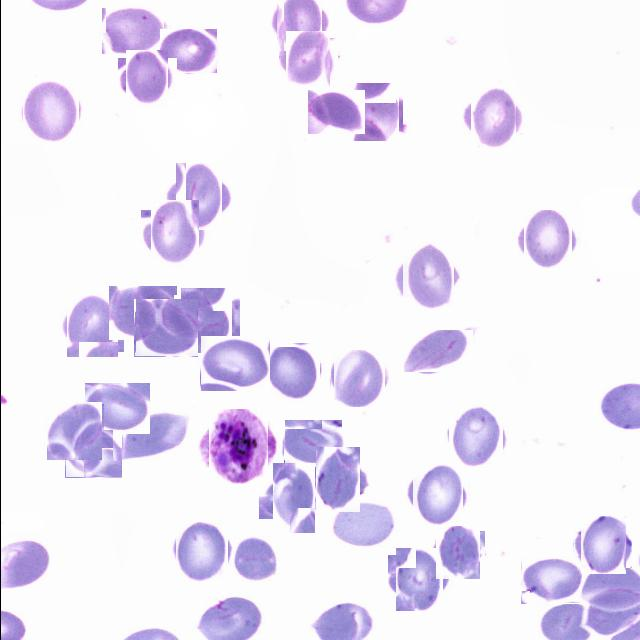red blood cell: (199, 336, 269, 392), (397, 245, 457, 307), (134, 299, 198, 357), (108, 286, 176, 340), (112, 413, 188, 461), (20, 82, 80, 142), (446, 407, 504, 466), (145, 205, 203, 263), (177, 292, 236, 349), (84, 383, 149, 434), (172, 523, 230, 580), (63, 298, 120, 355), (45, 403, 102, 460), (170, 168, 226, 226), (409, 466, 465, 522), (266, 470, 322, 526), (266, 344, 321, 400), (391, 551, 446, 607), (310, 452, 365, 508), (331, 501, 396, 548), (345, 85, 400, 140), (332, 350, 386, 406), (100, 8, 163, 55), (520, 556, 581, 604), (466, 92, 520, 146), (520, 213, 574, 267), (403, 330, 472, 372), (283, 420, 341, 468), (64, 430, 121, 478), (282, 34, 334, 86), (576, 519, 628, 571), (272, 0, 324, 49), (159, 29, 216, 73), (307, 90, 364, 134), (122, 54, 172, 104), (432, 528, 482, 578), (232, 536, 278, 582)
schizont: (204, 412, 272, 480)
